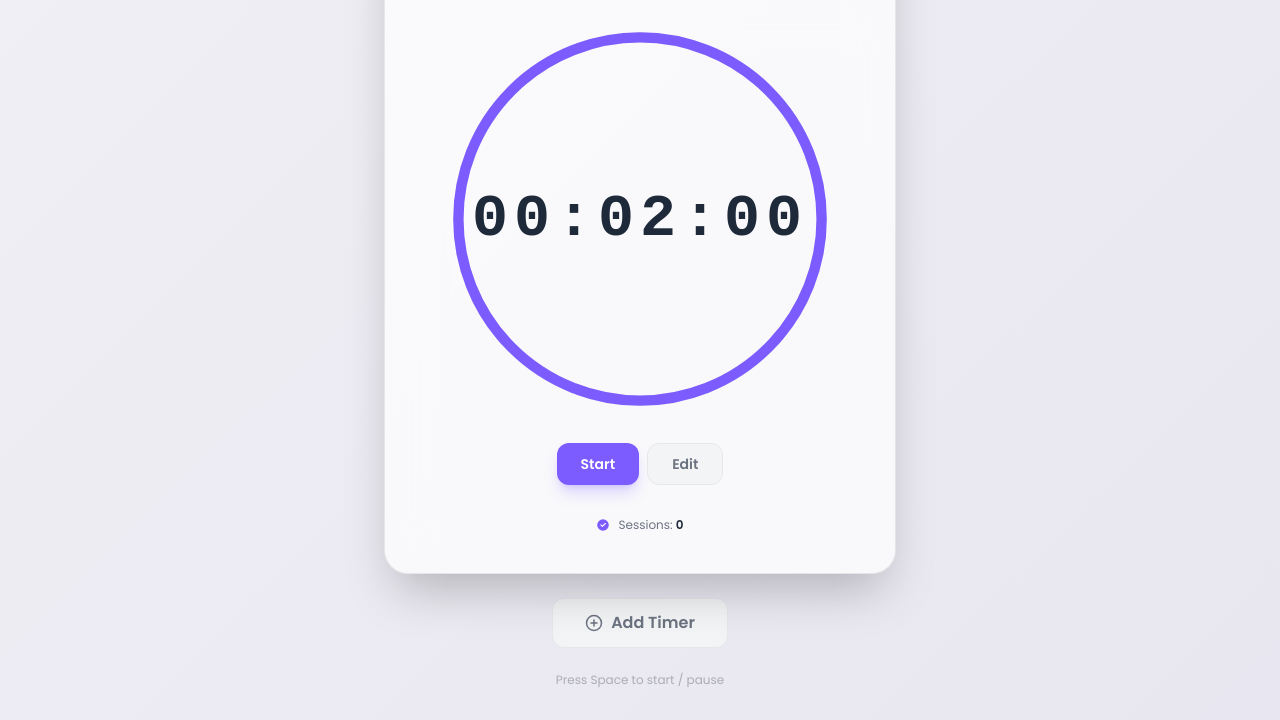
Scenario: Focus Timer › Timer Label › should label a newly added timer as 'Timer 2' under StrictMode
(page scrolled)
Click the button with aria-label "add new timer": (640, 623) x1=552 y1=598 x2=728 y2=648
(page scrolled)
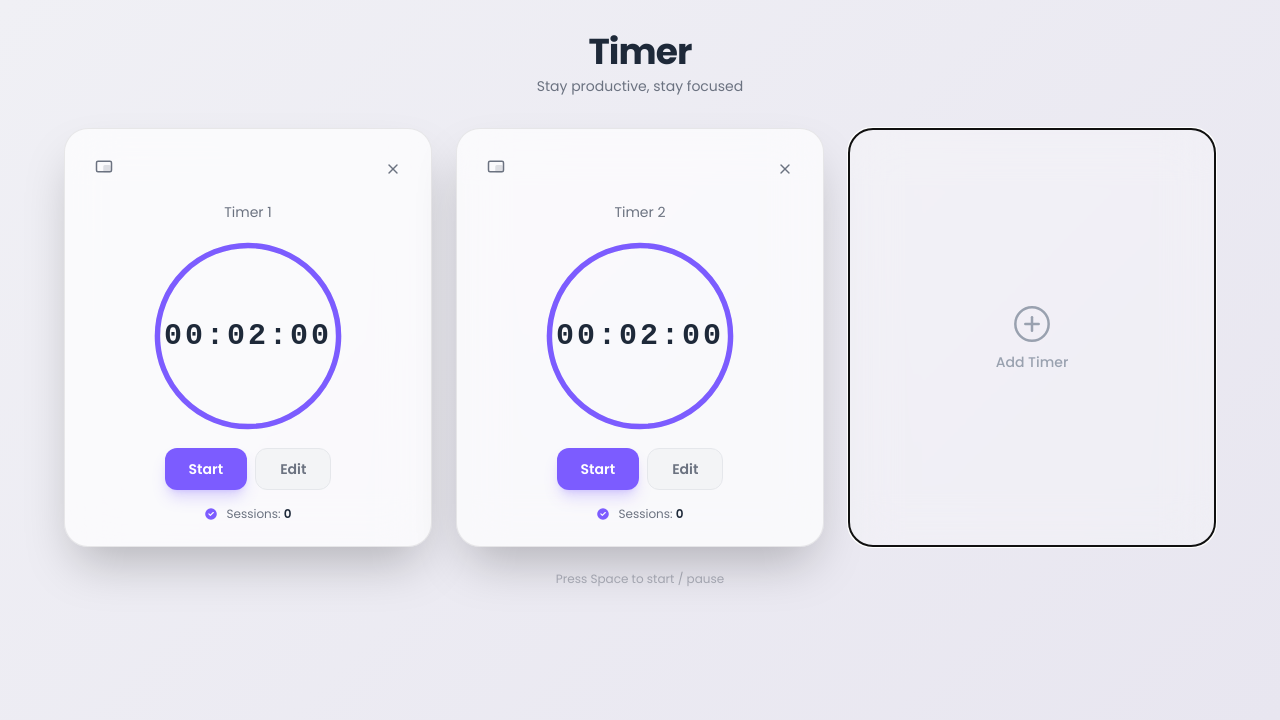
Expected: the button "Timer 1" is shown, x1=224 y1=202 x2=272 y2=222
Result: the button "Timer 2" is shown at x1=614 y1=202 x2=666 y2=222
